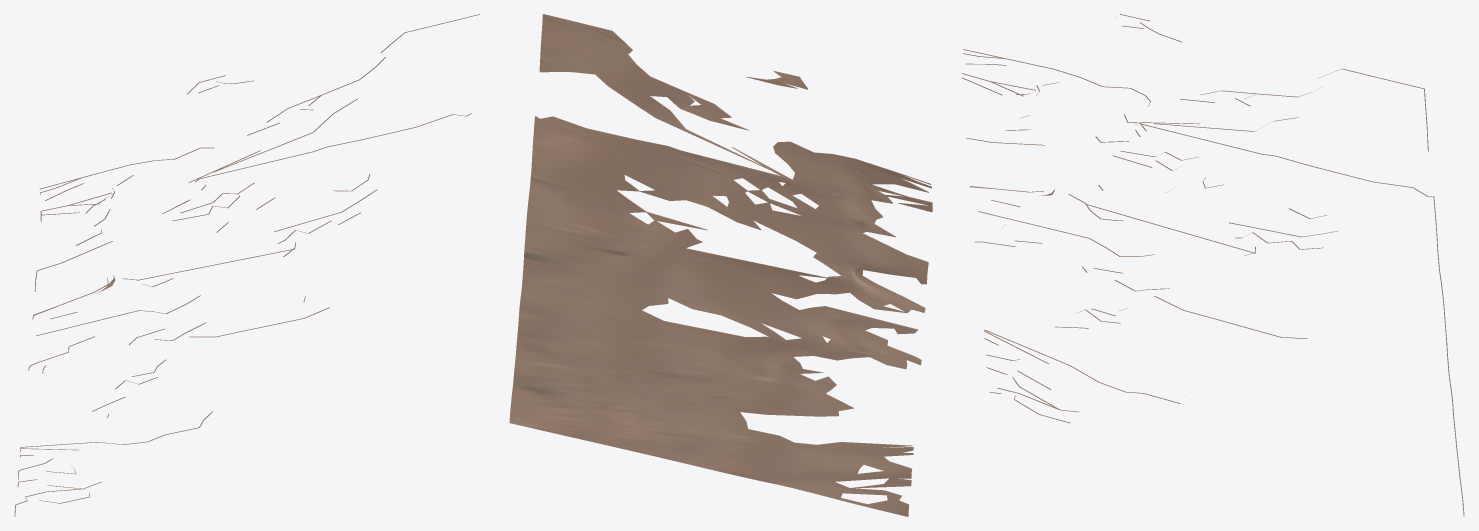
3 renders of one model, left to right at view 1: azimuth 30°, elevation 25°; view 2: azimuth 150°, elevation 25°; view 3: azimuth 330°, elevation 25°, orthographic. The views are drawn at different scales.
Bounding box in the file's own units: 27.37 × 25.45 × 4.1.
Materials: 1 (1 with a texture image).
